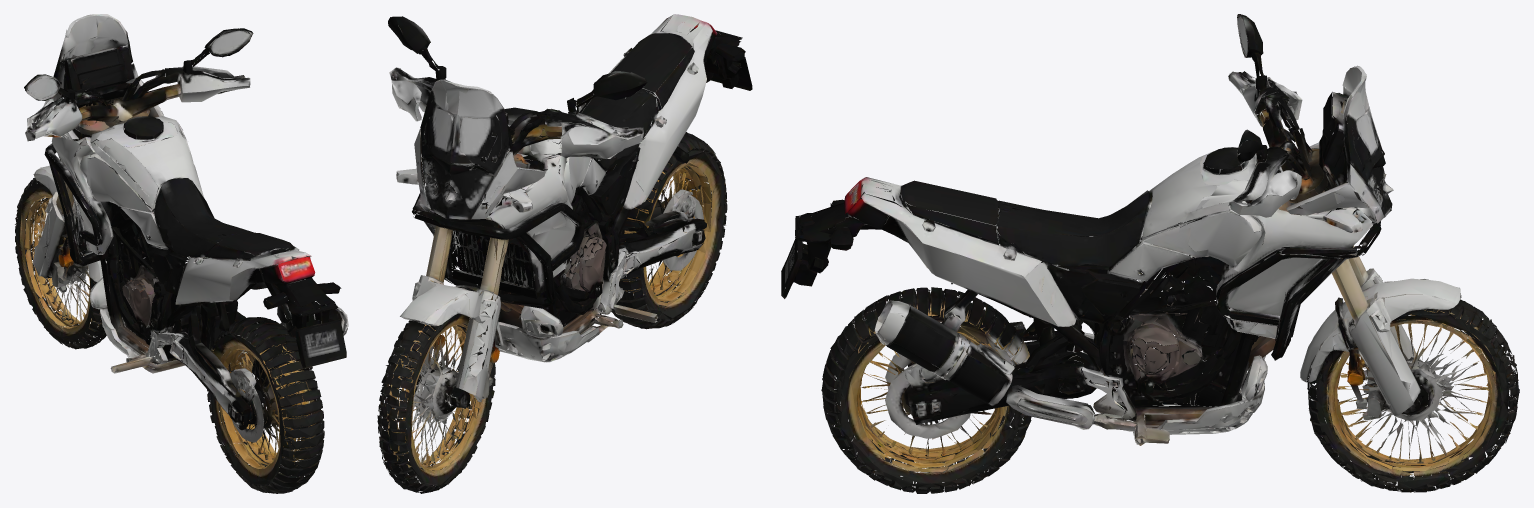
File: bike_adventure.glb
3 views of the same model, side by side, from view 1: azimuth 30°, elevation 25°; view 2: azimuth 150°, elevation 25°; view 3: azimuth 270°, elevation 25° (orthographic). The views are drawn at different scales.
Parts seen in each view (by area): view 1: bike_body, wheel_r, wheel_f; view 2: bike_body, wheel_f, wheel_r; view 3: bike_body, wheel_f, wheel_r.
Boxes of the visible parts, left/top/right/bottom form: bike_body: left=24, top=14, right=348, bottom=461; wheel_r: left=197, top=321, right=324, bottom=493; wheel_f: left=15, top=184, right=106, bottom=349; bike_body: left=385, top=14, right=752, bottom=463; wheel_f: left=377, top=295, right=500, bottom=493; wheel_r: left=595, top=146, right=727, bottom=329; bike_body: left=781, top=14, right=1509, bottom=462; wheel_f: left=1307, top=306, right=1519, bottom=492; wheel_r: left=821, top=292, right=1031, bottom=493.
Size of the model in its own units: 1.11 by 1.58 by 2.55.
1 material, 1 textured.
